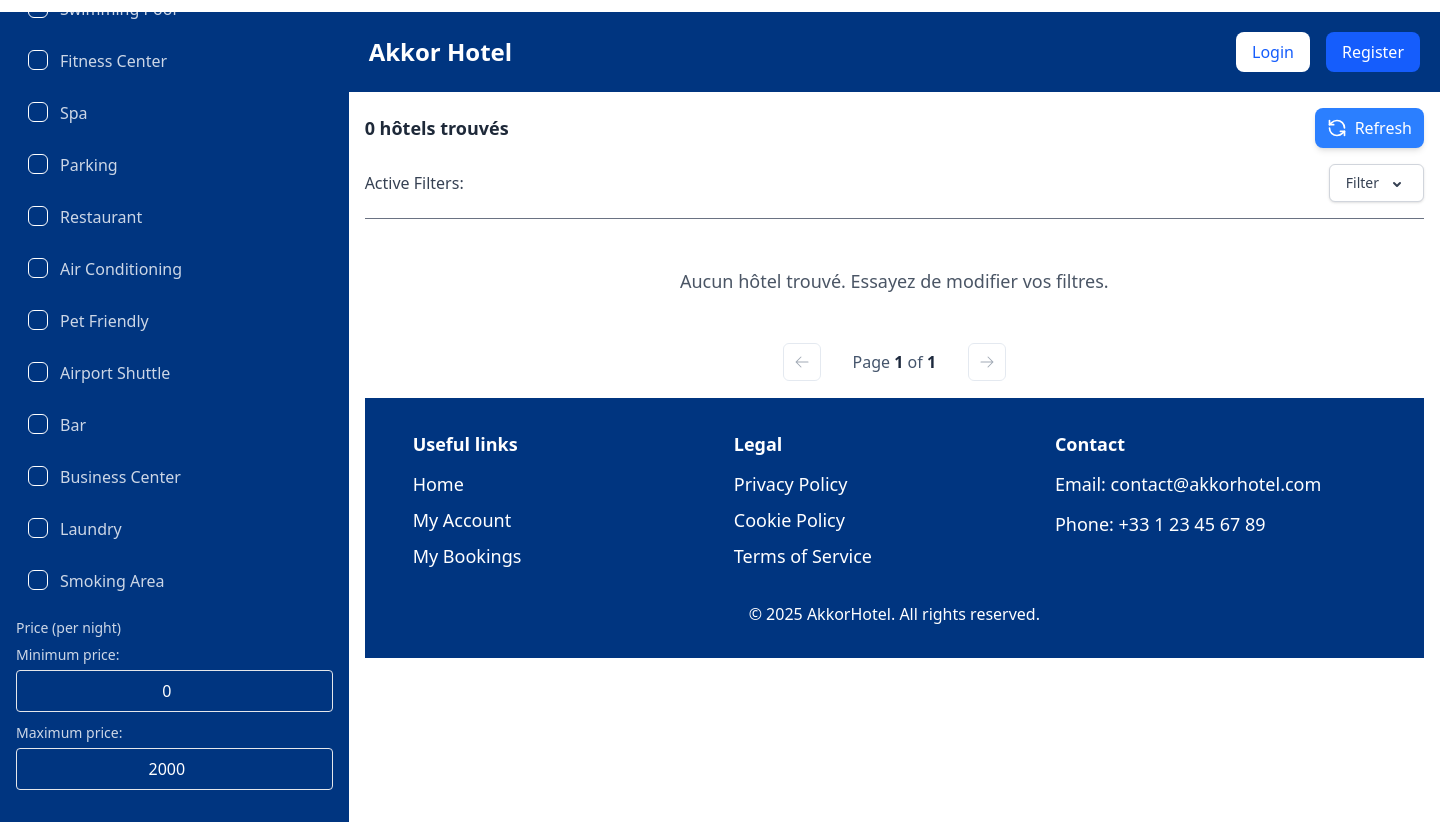
it: Home Component › should not allow maximum price to be less than minimum price plus 50
(page scrolled)
Replace the text in the number field labelled "Minimum price:" with "100" at {"x": 174, "y": 691}, box [16,670,333,712]
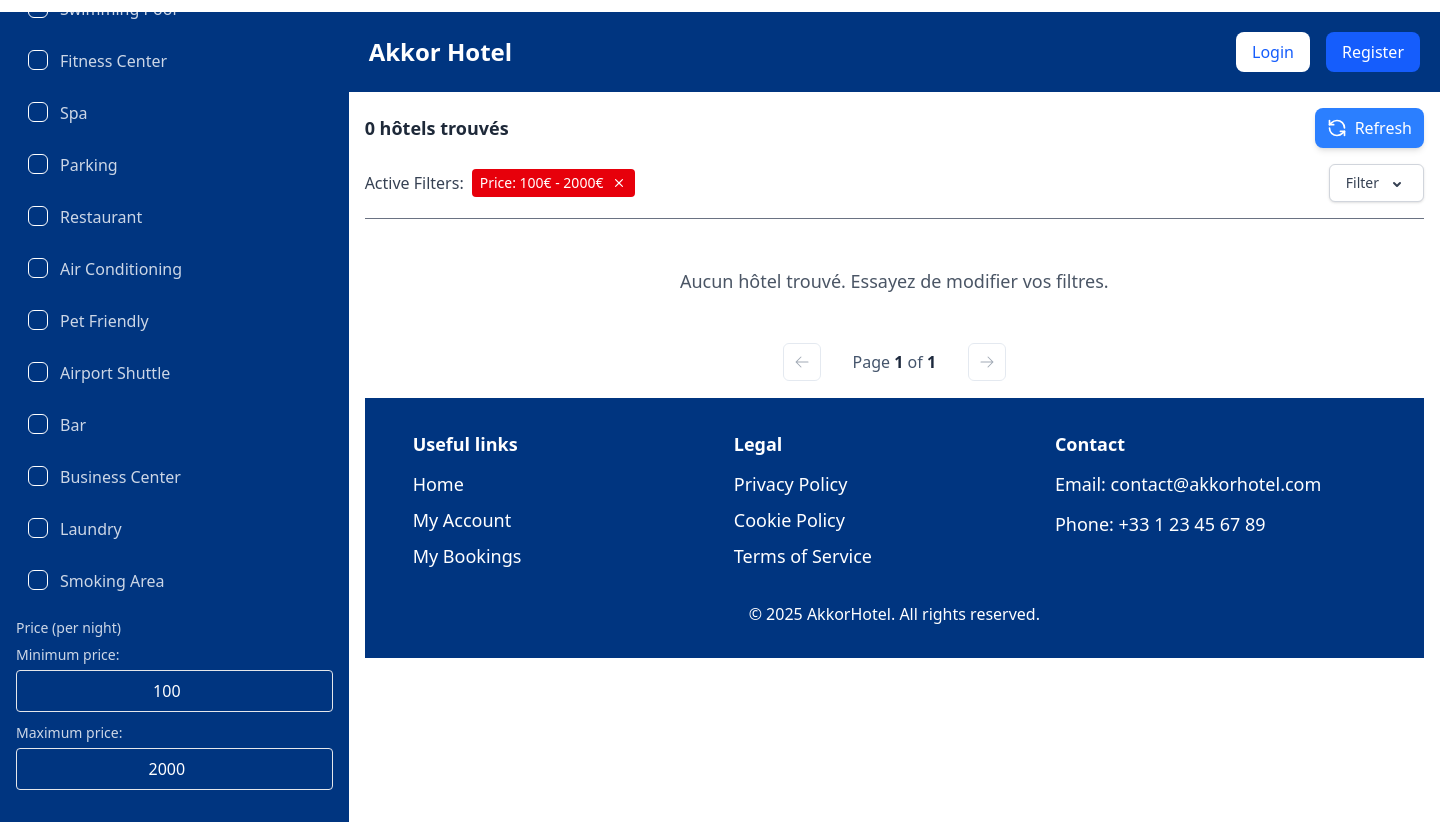
Replace the text in the number field labelled "Maximum price:" with "120" at {"x": 174, "y": 769}, box [16,748,333,790]
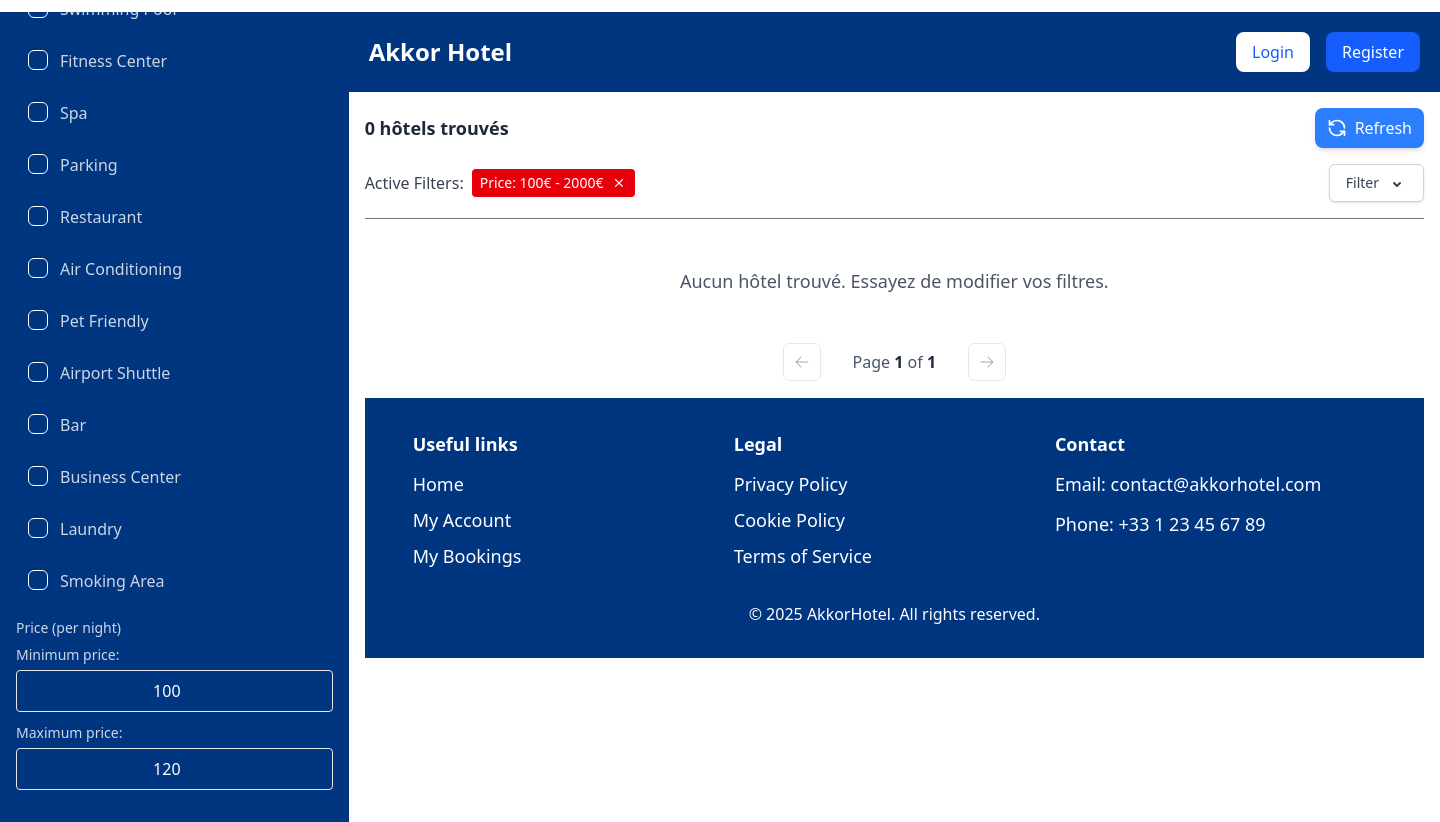
Leave the number field labelled "Maximum price:", box [16,748,333,790]
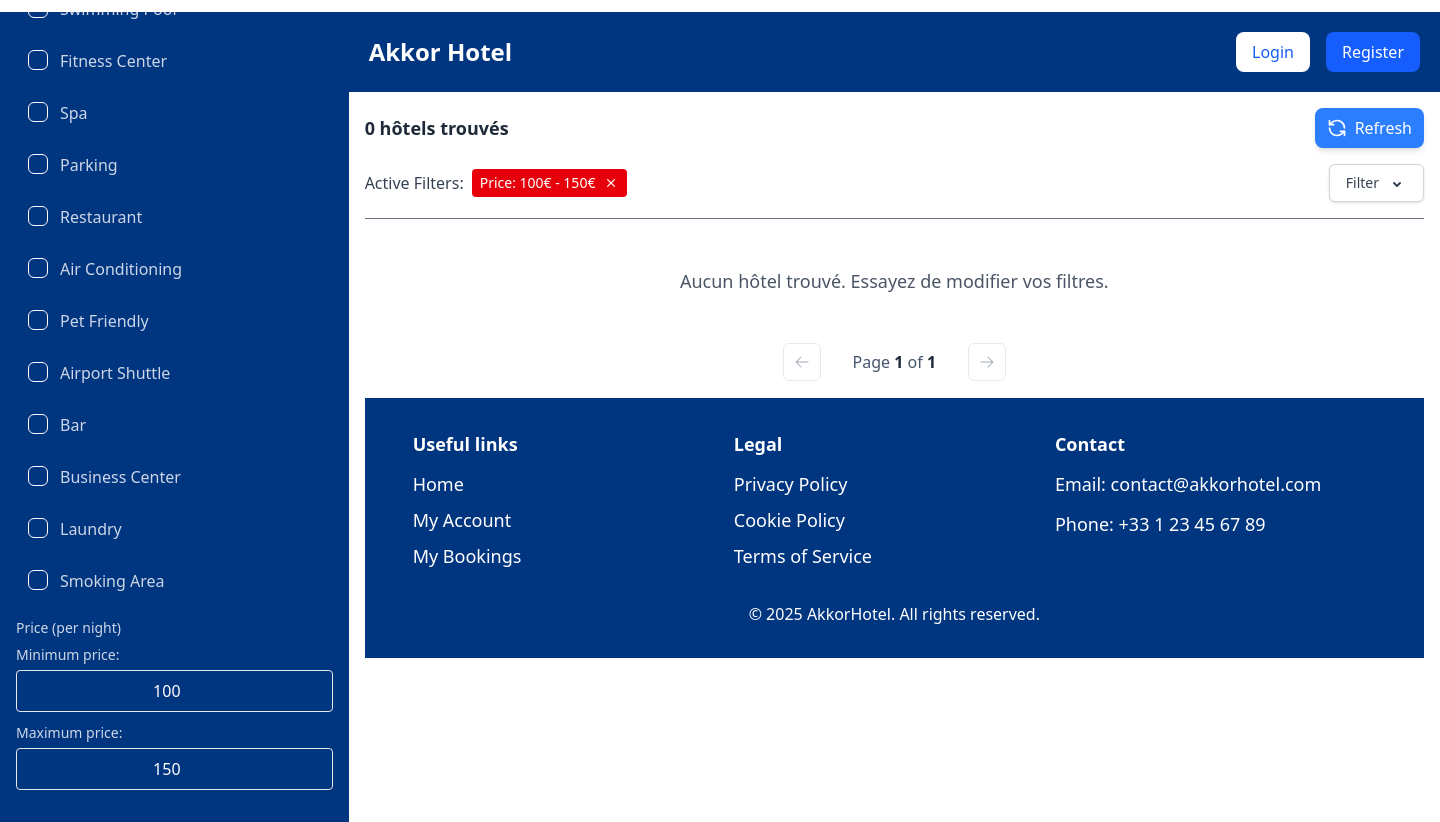
Result: the number field labelled "Maximum price:" holds "150" at [16,748,333,790]
